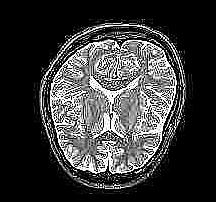Normal_Brain: (1, 1, 216, 202)
